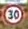limite 30: (2, 3, 24, 26)
